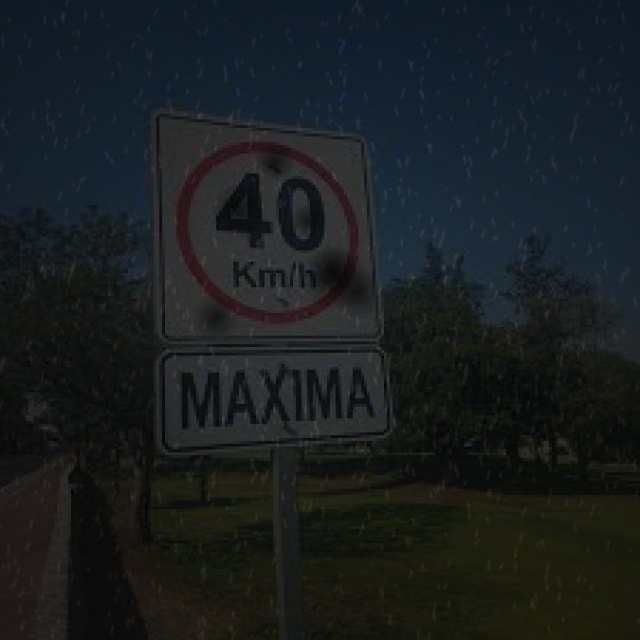Speed_Limit_40: (170, 126, 375, 336)
